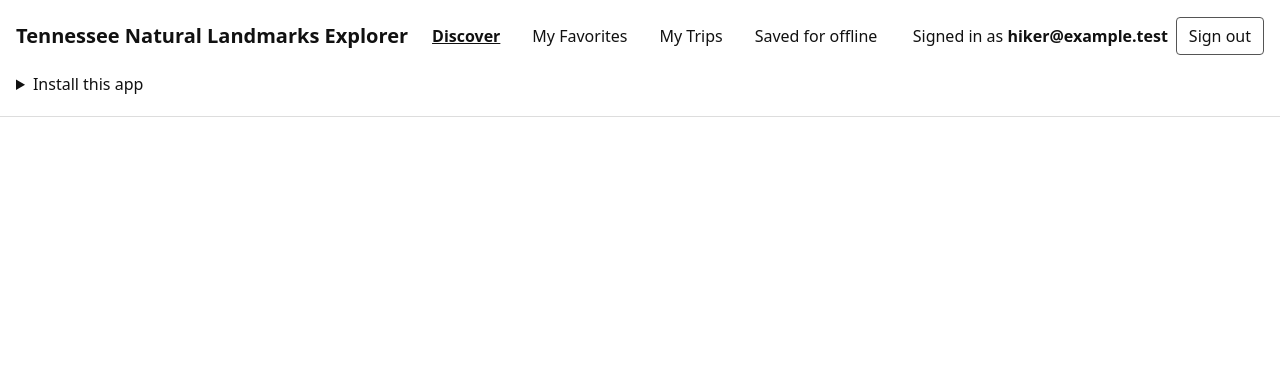
it: AccountNav — sign-out › failure: signed out on this device; an alert says the server sign-out isn't confirmed, with the cleanup status and Finish signing out
What coordinates should you click on to do the following:
click the button "Sign out"
I would click on:
 (1220, 36)
Its box is x1=1176 y1=17 x2=1264 y2=55.
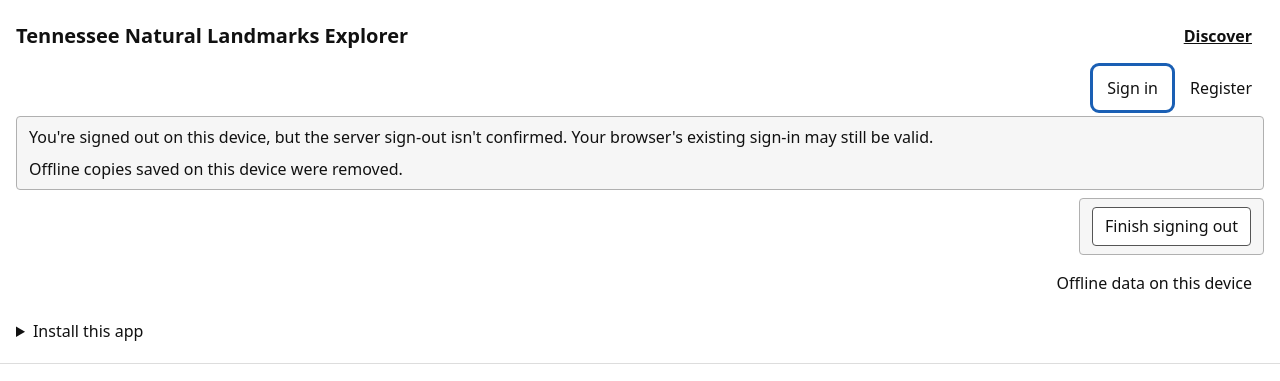
Expected: the message shows "You're signed out on this device, but the server sign-out isn't confirmed. Your browser's existing sign-in may still be valid.", x1=29 y1=126 x2=933 y2=148
Expected: the message shows "Offline copies saved on this device were removed.", x1=29 y1=158 x2=403 y2=180
Expected: the text "hiker@example.test" is gone
What coordinates should you click on to do the following:
click the button "Finish signing out"
I would click on:
 (1172, 226)
Its box is x1=1092 y1=207 x2=1251 y2=246.
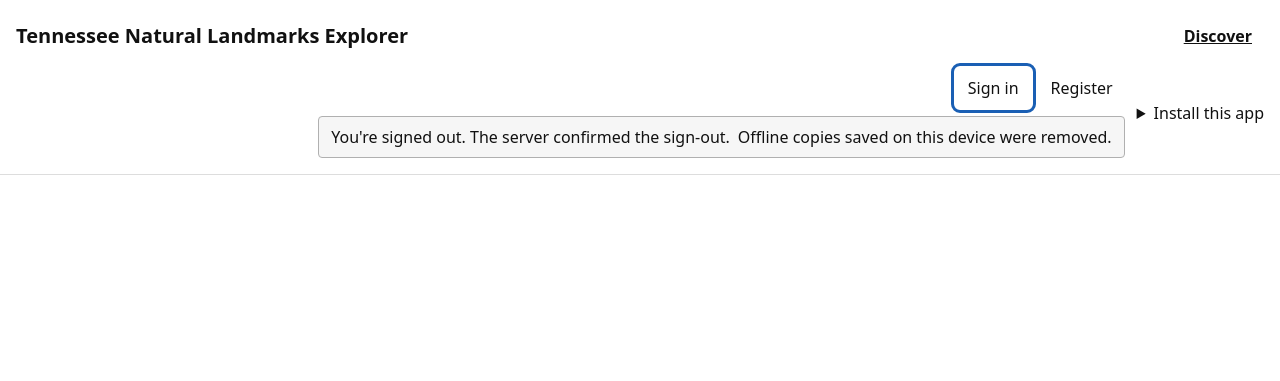
Expected: the text "You're signed out. The server confirmed the sign-out." is shown, x1=331 y1=125 x2=730 y2=149
Expected: the button "Finish signing out" is gone
